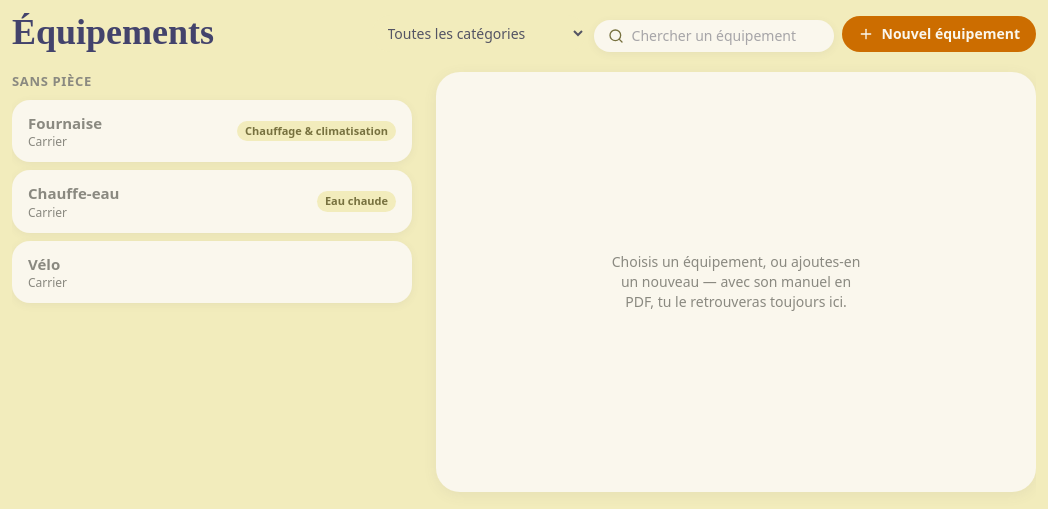
Test: le filtre par catégorie ne garde que les équipements classés dedans
Check: the text "Chauffe-eau" is shown, box [28,183,119,203]
Select "Eau chaude" in the dropdown named "Filtrer par catégorie": (479, 34) [372,15,586,52]
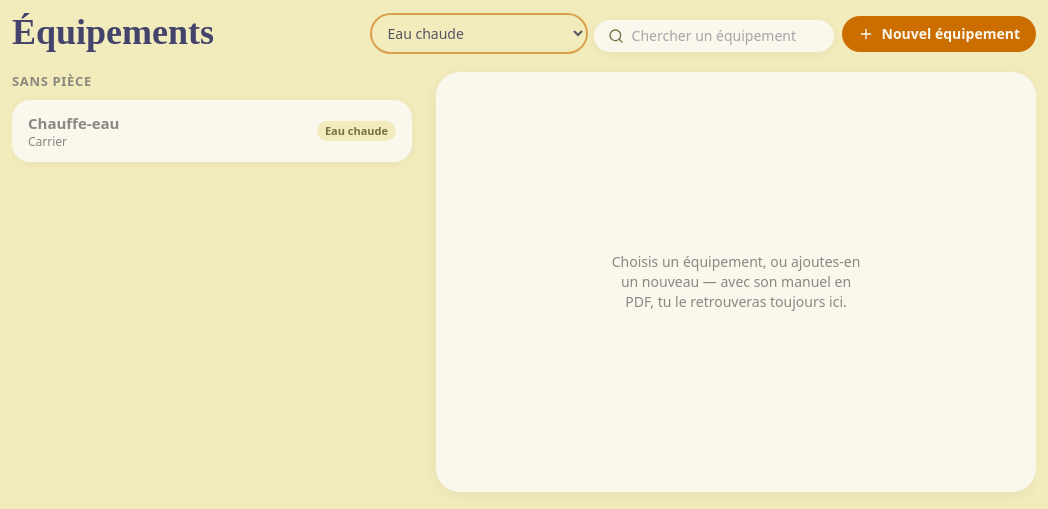
Check: the text "Chauffe-eau" is shown, box [28,112,119,132]
Check: the button "Fournaise" is gone
Check: the button "Vélo" is gone
